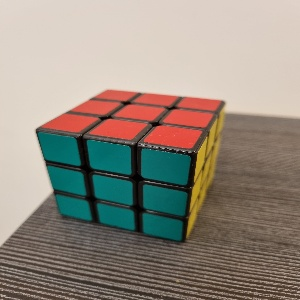cube: (36, 89, 226, 244)
